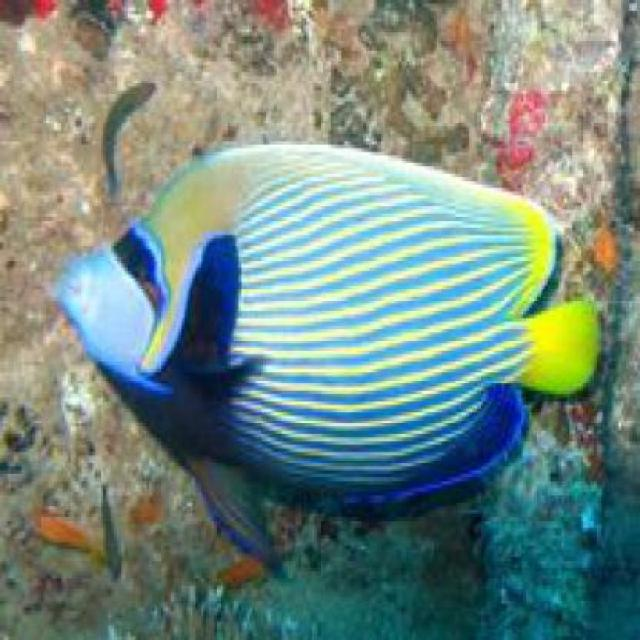AngelFish: (59, 146, 606, 500)
